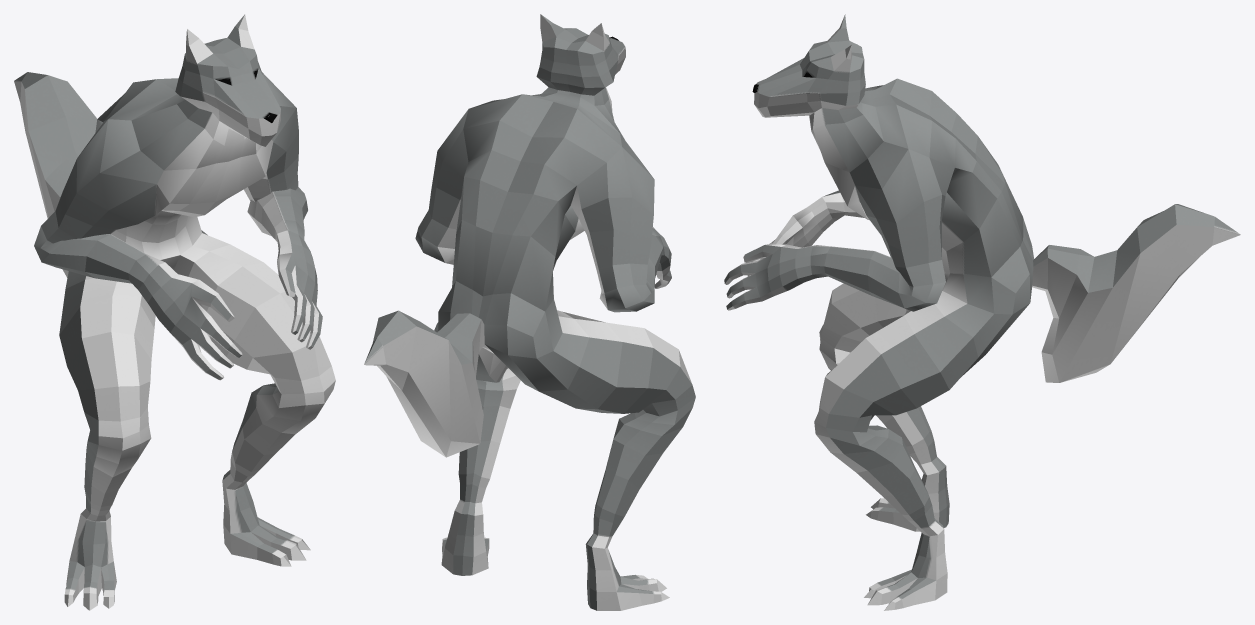
File: WolfIdle_(0).obj
The picture shows the model from 3 angles, left to right: view 1: azimuth 30°, elevation 25°; view 2: azimuth 150°, elevation 25°; view 3: azimuth 270°, elevation 25°; orthographic projection. The views are drawn at different scales.
Visible parts, largest first — view 1: Box001; view 2: Box001; view 3: Box001.
Boxes of the visible parts, x1=… form: Box001: x1=14, y1=14, x2=335, y2=610; Box001: x1=364, y1=14, x2=695, y2=610; Box001: x1=724, y1=14, x2=1240, y2=610.
Bounding box in the file's own units: 61.22 × 131 × 115.
